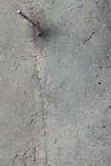Exposed reinforcement: (16, 9, 37, 28)
